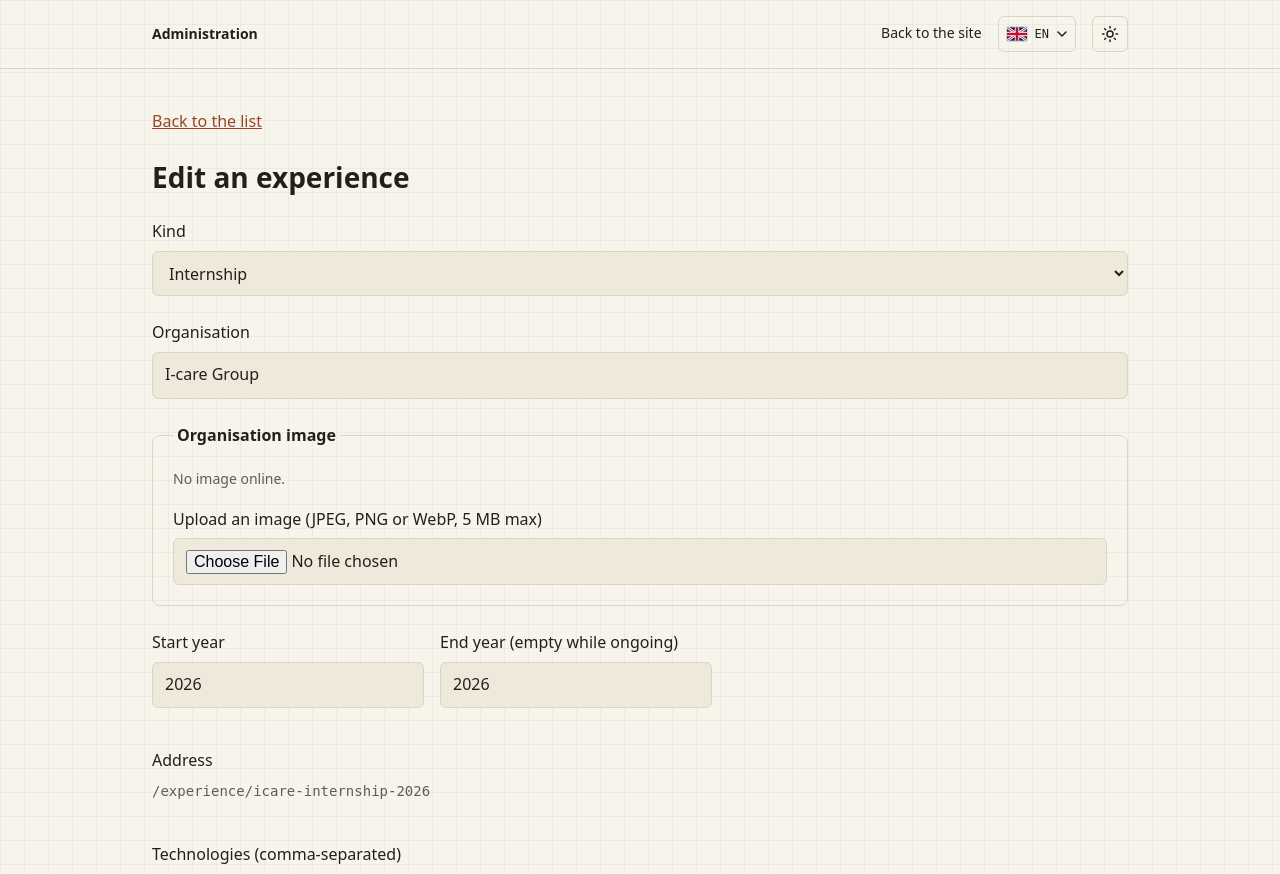
editing an experience › loads the entry with a fixed address and saves it without the slug
The width and height of the screenshot is (1280, 874).
Check: the field labelled "Organisation" holds "I-care Group", box [152, 352, 1128, 399]
Check: the text "/experience/icare-internship-2026" is shown, box [152, 783, 430, 799]
Clear the field labelled "End year (empty while ongoing)" at (576, 685), box [440, 662, 712, 708]
(page scrolled)
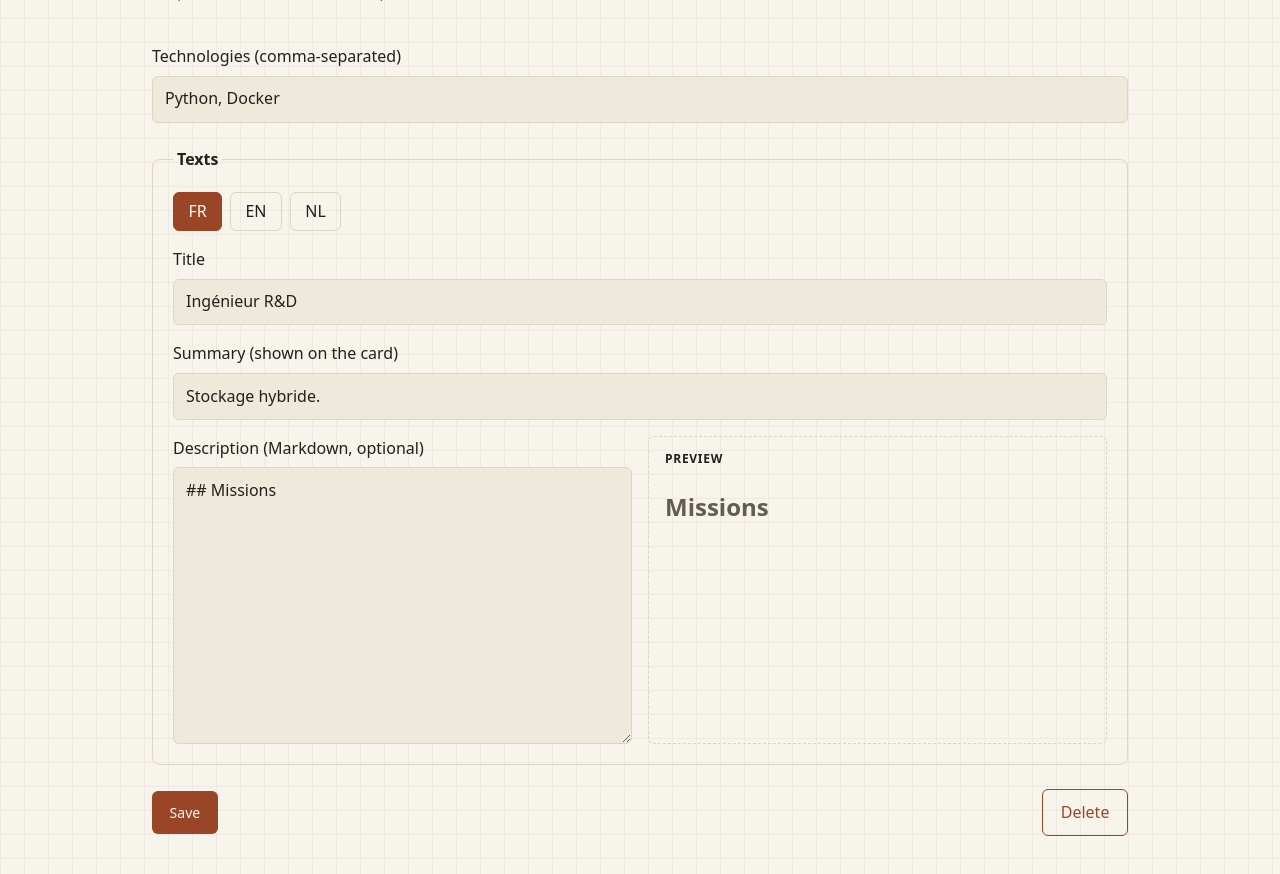
Click the button "Save" at (185, 813), box [152, 791, 218, 834]
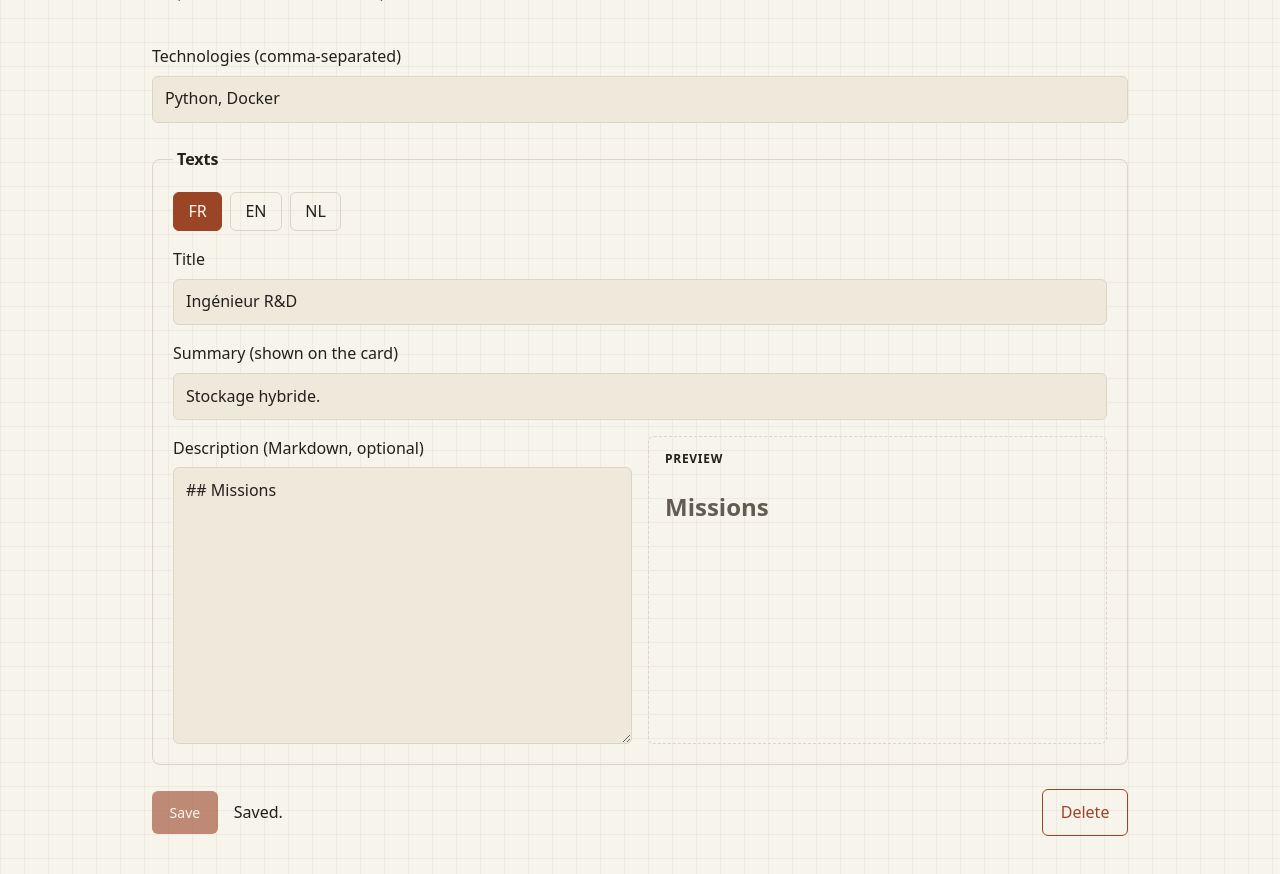
Check: the text "Saved." is shown, box [234, 800, 283, 826]
